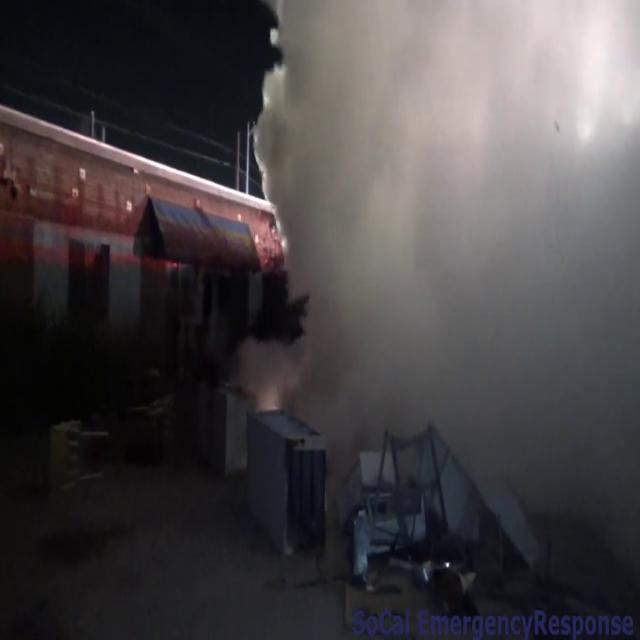Smoke: (253, 0, 640, 602)
